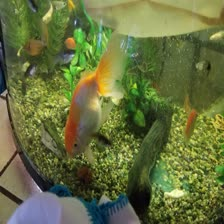Cuezo: (65, 32, 132, 156)
Guppy: (188, 57, 214, 74), (22, 60, 38, 79)
Plano: (177, 107, 197, 146)
